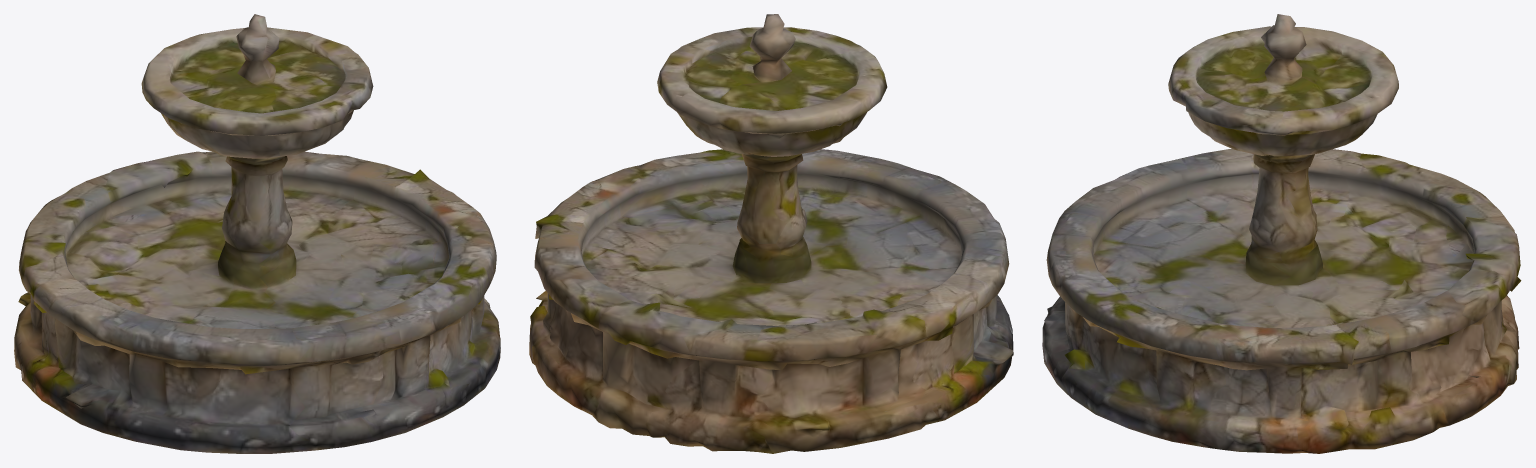
Rendered from fountain.glb.
The picture shows the model from 3 angles, left to right: view 1: azimuth 30°, elevation 25°; view 2: azimuth 150°, elevation 25°; view 3: azimuth 270°, elevation 25°; orthographic projection.
Parts seen in each view (by area): view 1: tripo_node_fb8a8906-52ea-4d7d-b948-7cb09b8ac541; view 2: tripo_node_fb8a8906-52ea-4d7d-b948-7cb09b8ac541; view 3: tripo_node_fb8a8906-52ea-4d7d-b948-7cb09b8ac541.
Boxes of the visible parts, x1,y1,x2,y2 form: tripo_node_fb8a8906-52ea-4d7d-b948-7cb09b8ac541: (14, 14, 500, 453); tripo_node_fb8a8906-52ea-4d7d-b948-7cb09b8ac541: (529, 14, 1013, 453); tripo_node_fb8a8906-52ea-4d7d-b948-7cb09b8ac541: (1042, 14, 1521, 453).
Size of the model in its own units: 1 by 0.7732 by 0.9833.
1 material, 1 textured.
